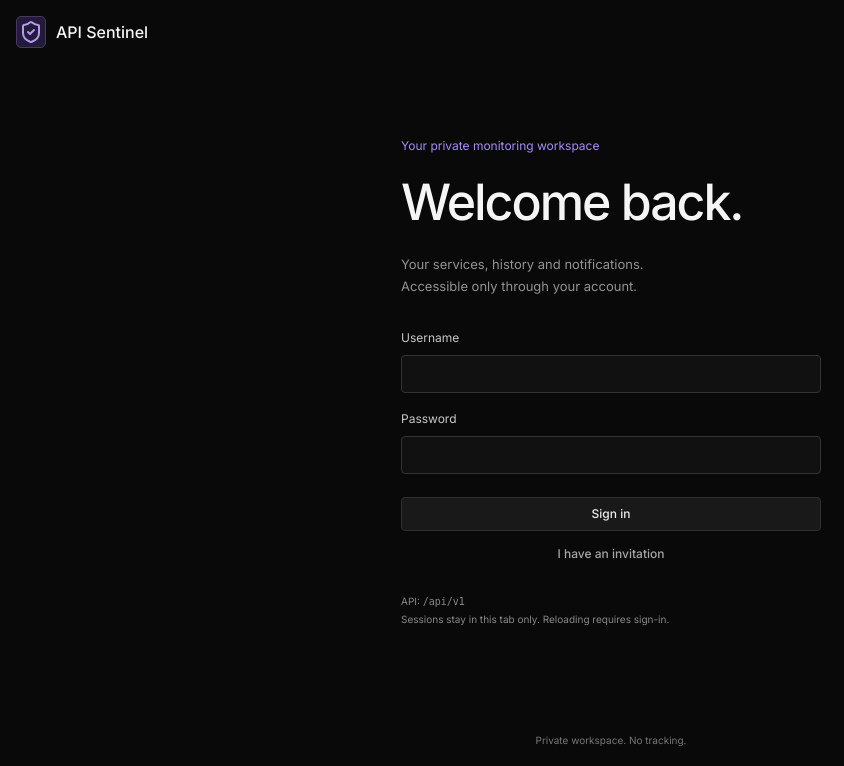
it: account entry › reports a failed login without opening the workspace
In the field labelled "Username": (611, 374) [401,355,821,393], type "alice"
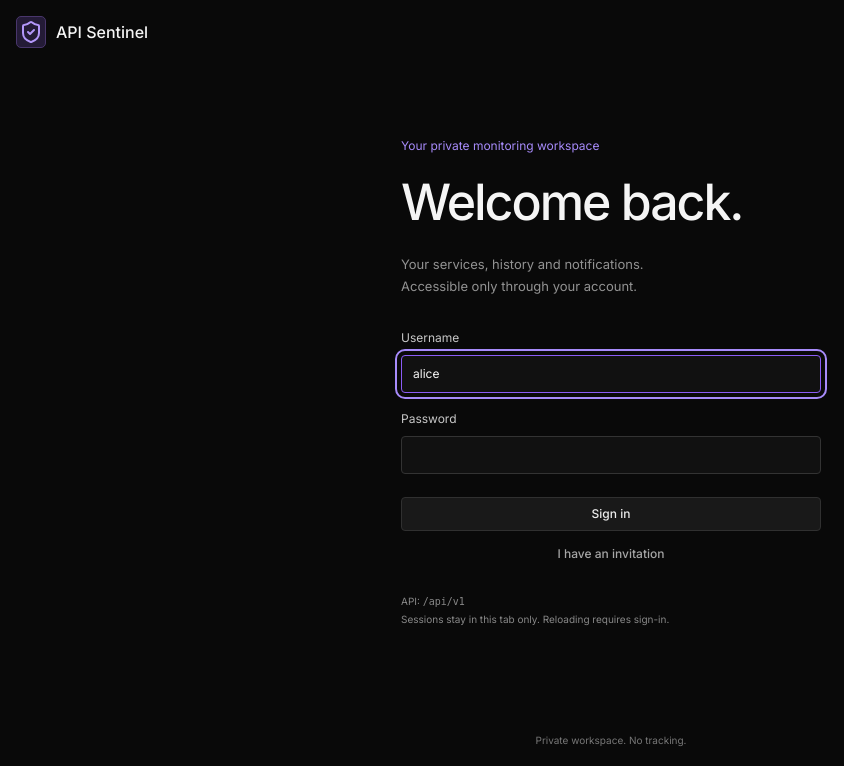
In the password field labelled "Password": (611, 455) [401,436,821,474], type "a sufficiently long password"
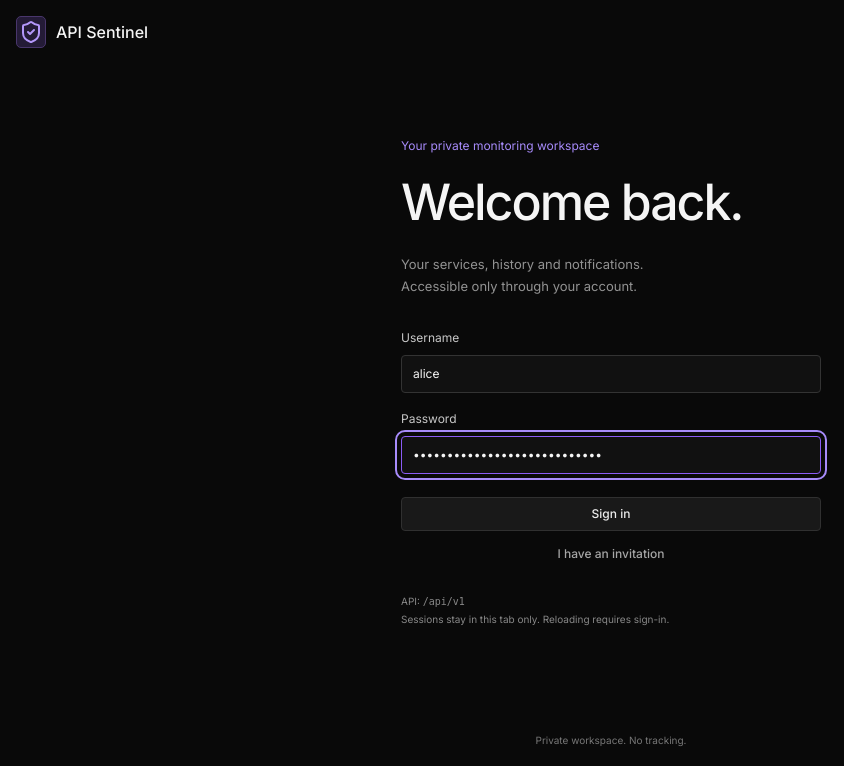
Click the button "Sign in": (611, 514) [401,497,821,531]
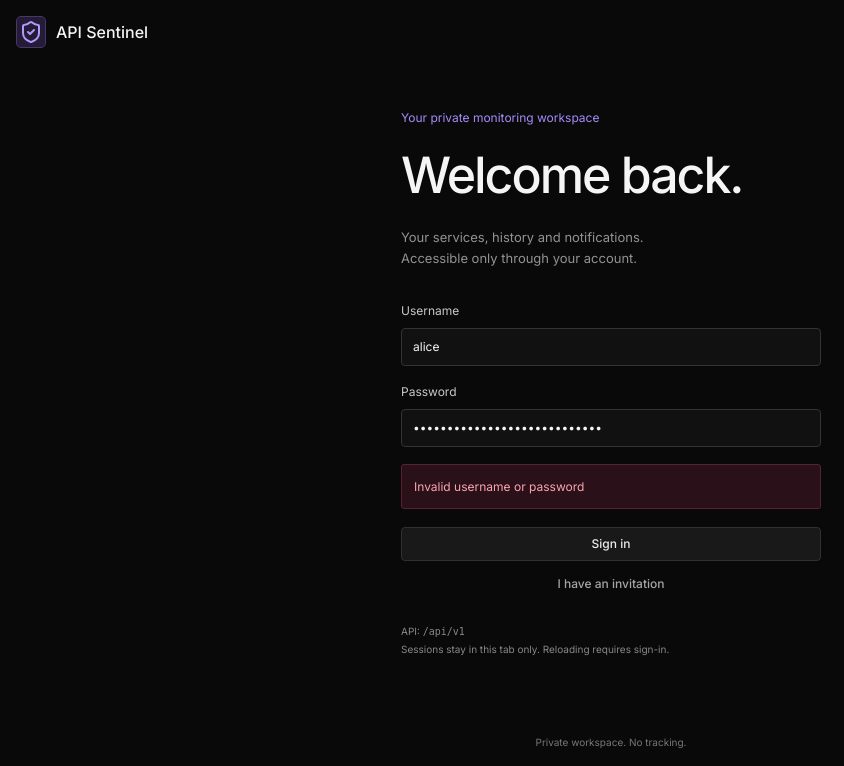
Now the message reads "Invalid username or password", box [414,479,584,494]
